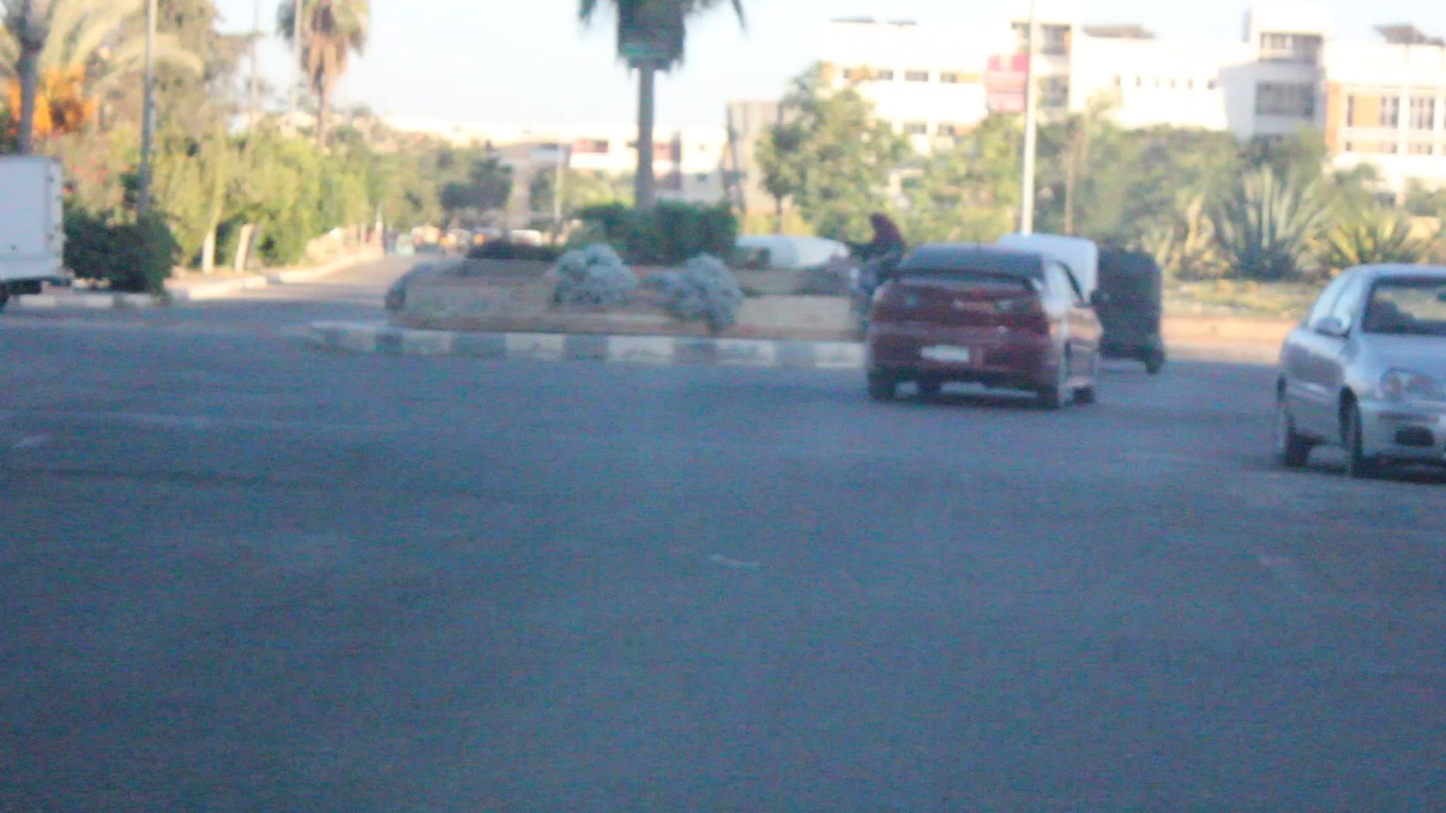Bump: (8, 406, 1399, 510)
